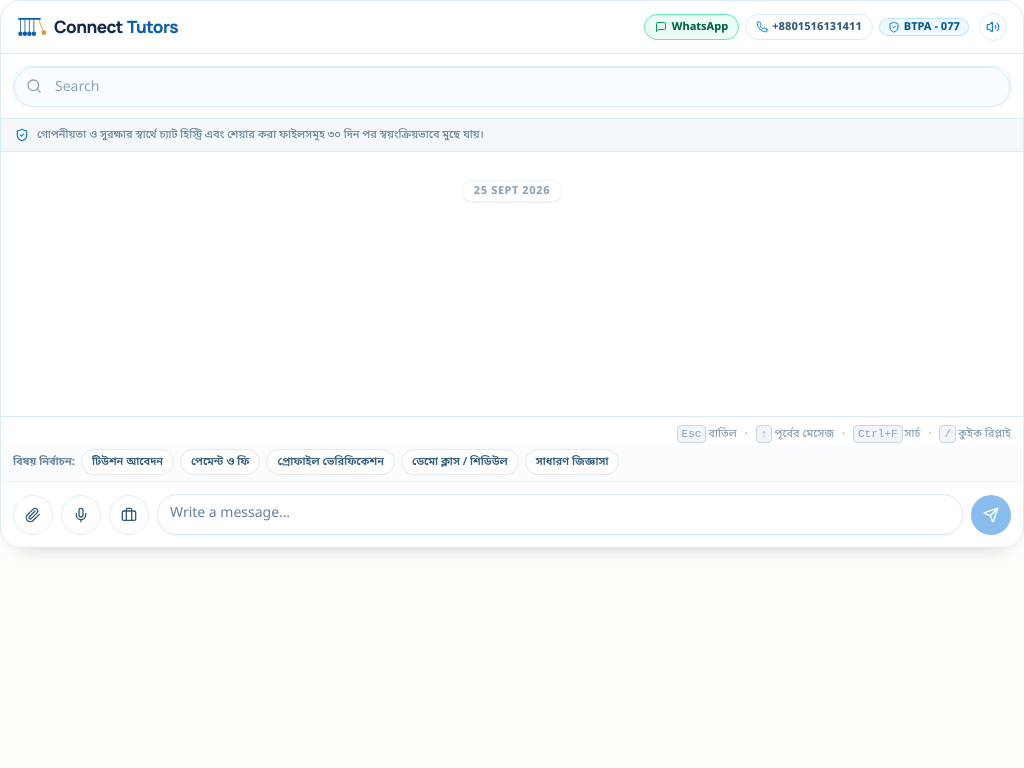
it: the Tutor's Admin chat panel › renders pre-chat topic selector chips and allows selecting and toggling inquiry topics
Expected: the text "বিষয় নির্বাচন:" is shown, [13,454,75,470]
Click 'টিউশনে আবেদন'
Click the button "টিউশন আবেদন".
click(128, 462)  # box [81,449,174,475]
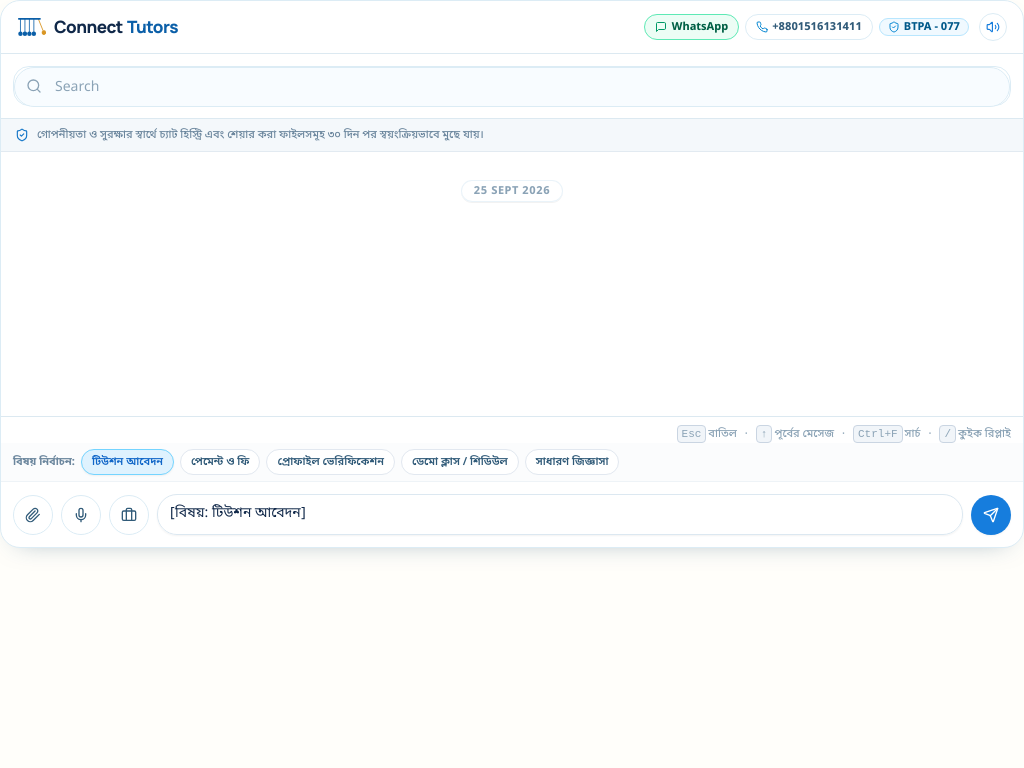
Expected: the text box with placeholder "Write a message…" holds "[বিষয়: টিউশন আবেদন] ", [157,494,963,535]
Click 'প্ল্যাটফর্ম ফি' replaces previous topic
Click the button "পেমেন্ট ও ফি".
click(220, 462)  # box [180,449,260,475]
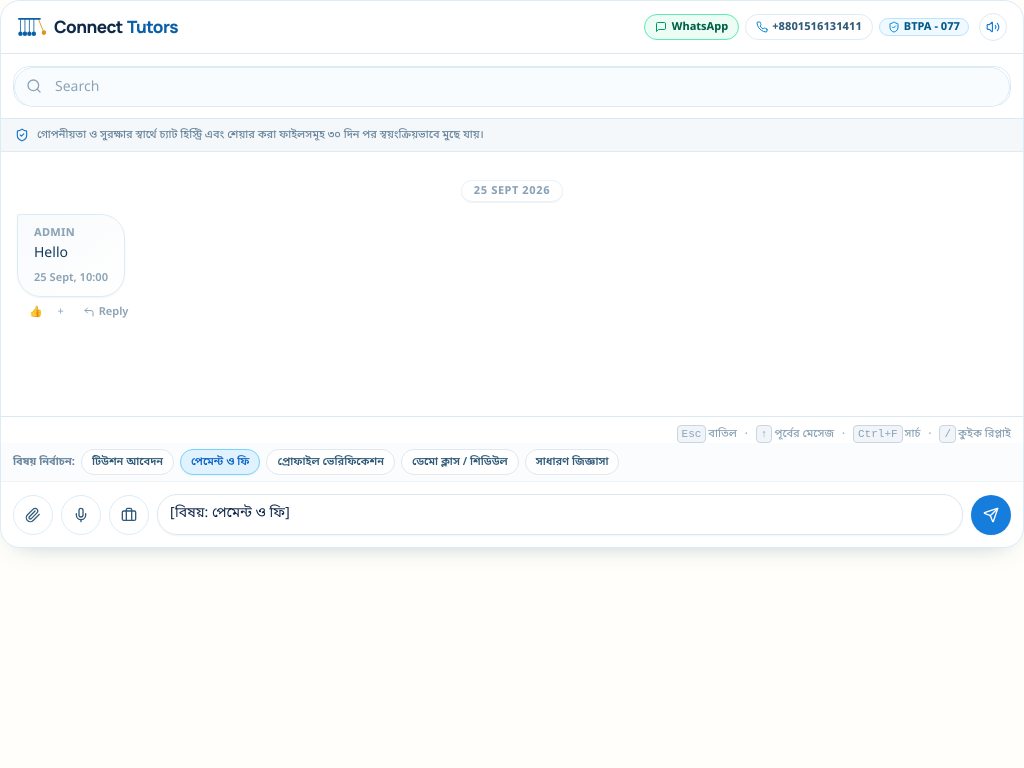
Expected: the text box with placeholder "Write a message…" holds "[বিষয়: পেমেন্ট ও ফি] ", [157,494,963,535]
